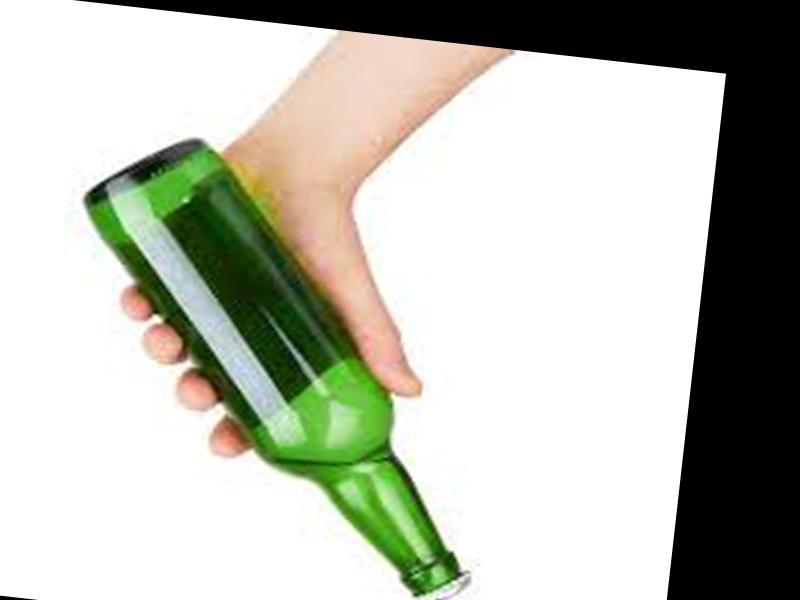Beer: (48, 120, 518, 600)
